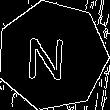N_N: (31, 29, 74, 82)
